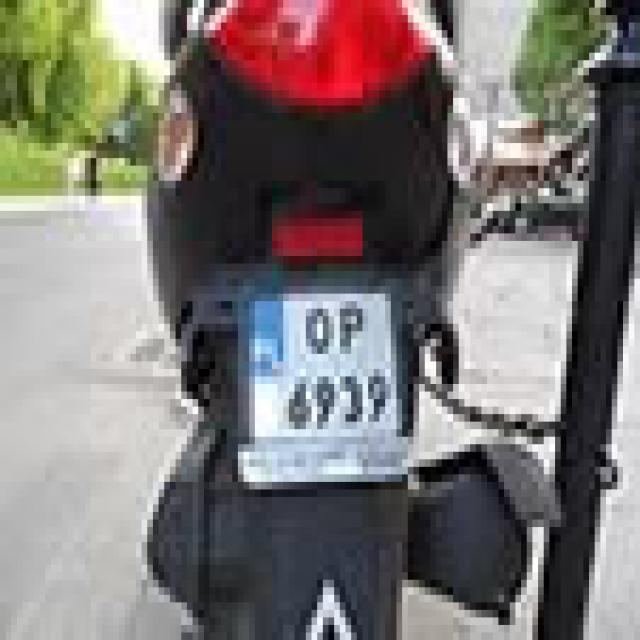pl_license_plate: (238, 271, 391, 429)
